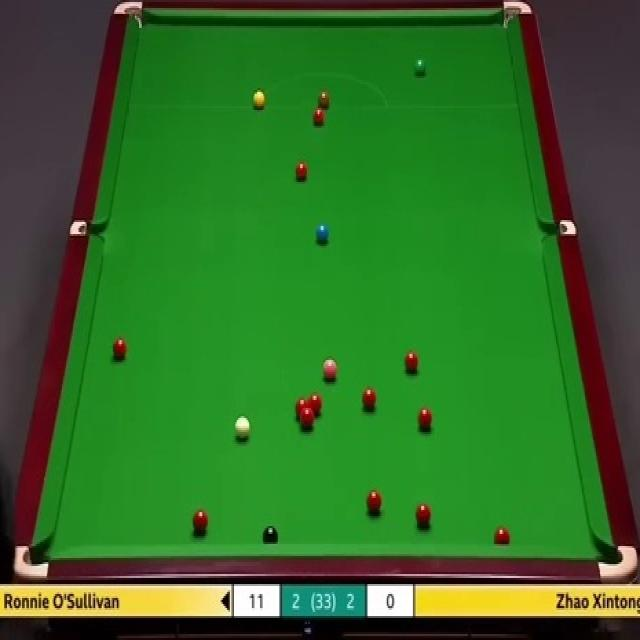black-ball: (262, 526, 279, 545)
blue-ball: (315, 222, 329, 245)
brown-ball: (316, 88, 330, 111)
green-ball: (412, 58, 427, 78)
pink-ball: (323, 354, 338, 382)
red-ball: (403, 349, 420, 378), (111, 336, 128, 363), (414, 503, 431, 529), (192, 509, 209, 534), (366, 489, 382, 515), (417, 405, 432, 430), (361, 387, 376, 412), (294, 159, 310, 182), (308, 394, 322, 418), (494, 526, 510, 545), (312, 107, 325, 127), (301, 410, 314, 430), (295, 398, 308, 418)
white-ball: (233, 414, 252, 446)
yellow-ball: (252, 89, 265, 109)
